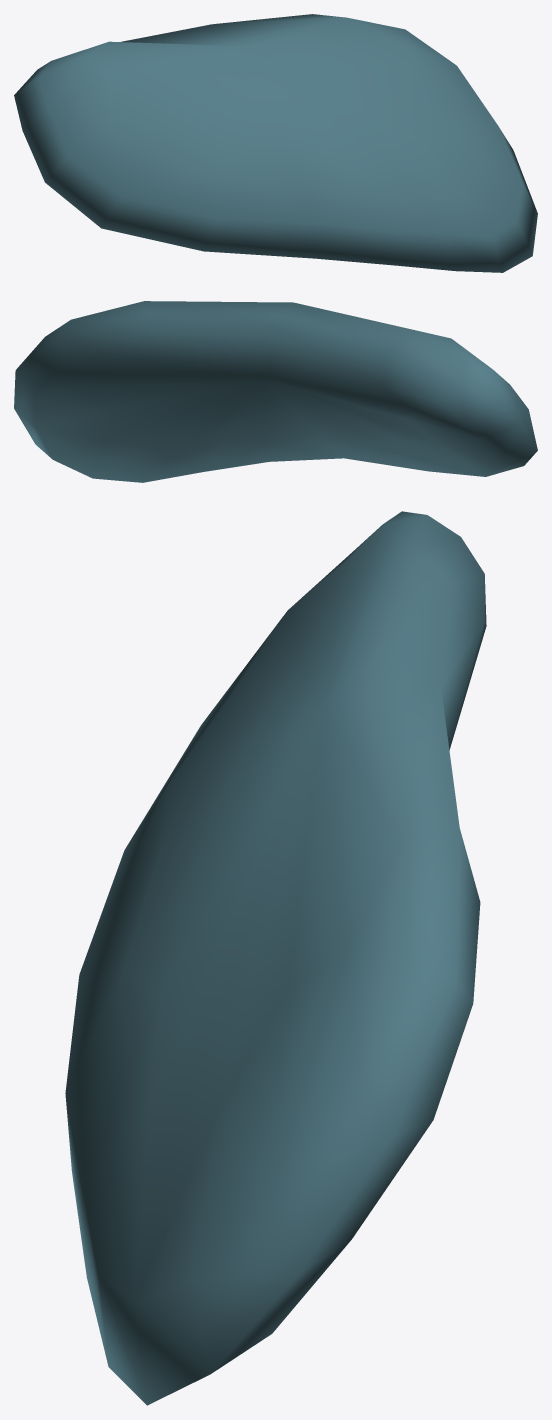
File: Flexor_digitorum_profundus_5th_finger_distal_phalanx_left.glb
3 renders of one model, top to bottom at view 1: azimuth 30°, elevation 25°; view 2: azimuth 150°, elevation 25°; view 3: azimuth 270°, elevation 25°, orthographic. The views are drawn at different scales.
Visible parts, largest first — view 1: Flexor_digitorum_profundus_on_distal_phalanx_of_5th_finger._; view 2: Flexor_digitorum_profundus_on_distal_phalanx_of_5th_finger._; view 3: Flexor_digitorum_profundus_on_distal_phalanx_of_5th_finger._.
Boxes of the visible parts, x1,y1,x2,y2 form: Flexor_digitorum_profundus_on_distal_phalanx_of_5th_finger._: [14, 14, 537, 272]; Flexor_digitorum_profundus_on_distal_phalanx_of_5th_finger._: [14, 301, 537, 482]; Flexor_digitorum_profundus_on_distal_phalanx_of_5th_finger._: [65, 511, 486, 1405].
Bounding box in the file's own units: 0.0032 × 0.00165 × 0.00124.
